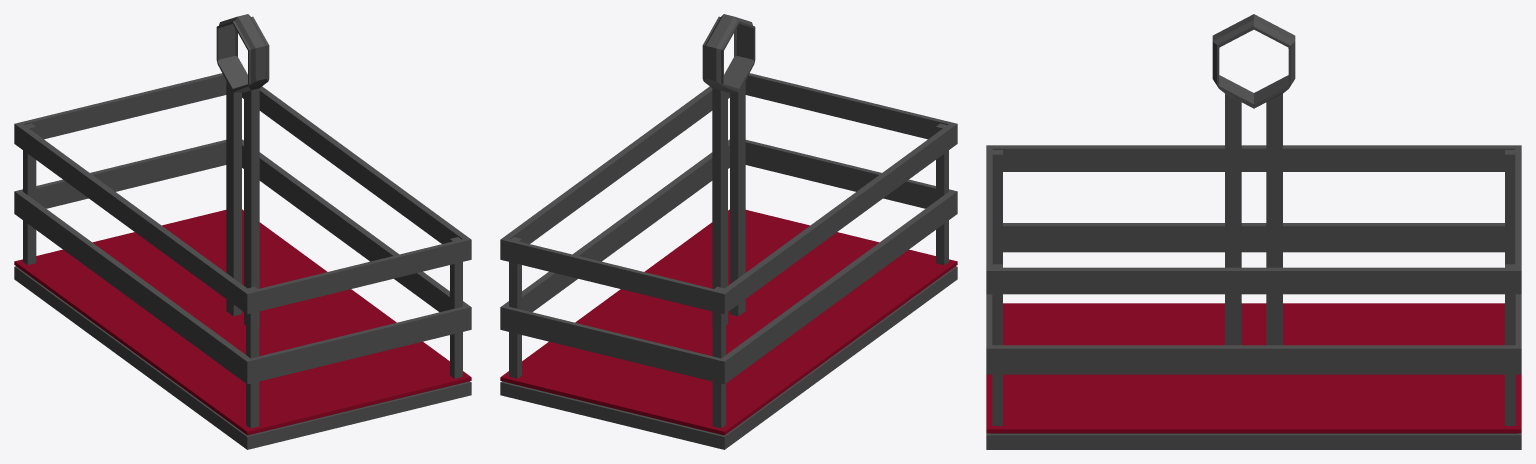
File: CondimentCaddy.fbx
3 views of the same model, side by side, from view 1: azimuth 30°, elevation 25°; view 2: azimuth 150°, elevation 25°; view 3: azimuth 270°, elevation 25° (orthographic). The views are drawn at different scales.
Visible parts, largest first — view 1: CondimentCaddy; view 2: CondimentCaddy; view 3: CondimentCaddy.
Part boxes in pixels (<box>): CondimentCaddy: <box>14,14,471,449</box>; CondimentCaddy: <box>500,14,957,449</box>; CondimentCaddy: <box>986,14,1521,449</box>.
Size of the model in its own units: 16.89 by 23.2 by 30.41.
